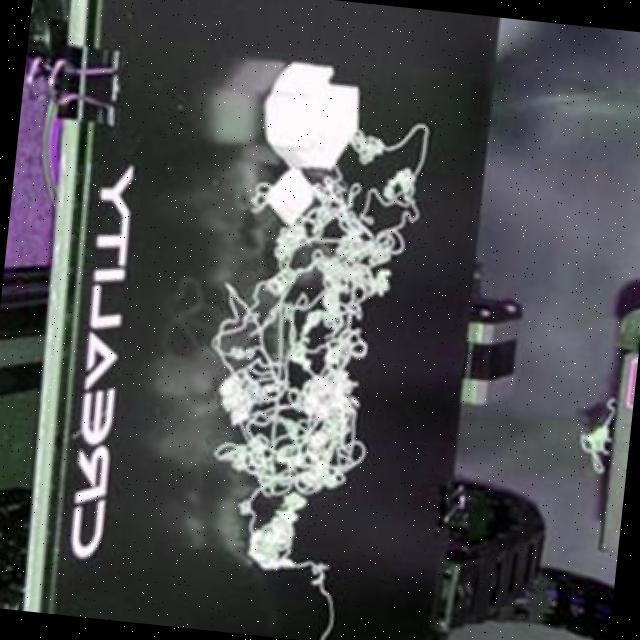spaghetti: (190, 105, 438, 590), (578, 397, 623, 478), (304, 561, 345, 640)
